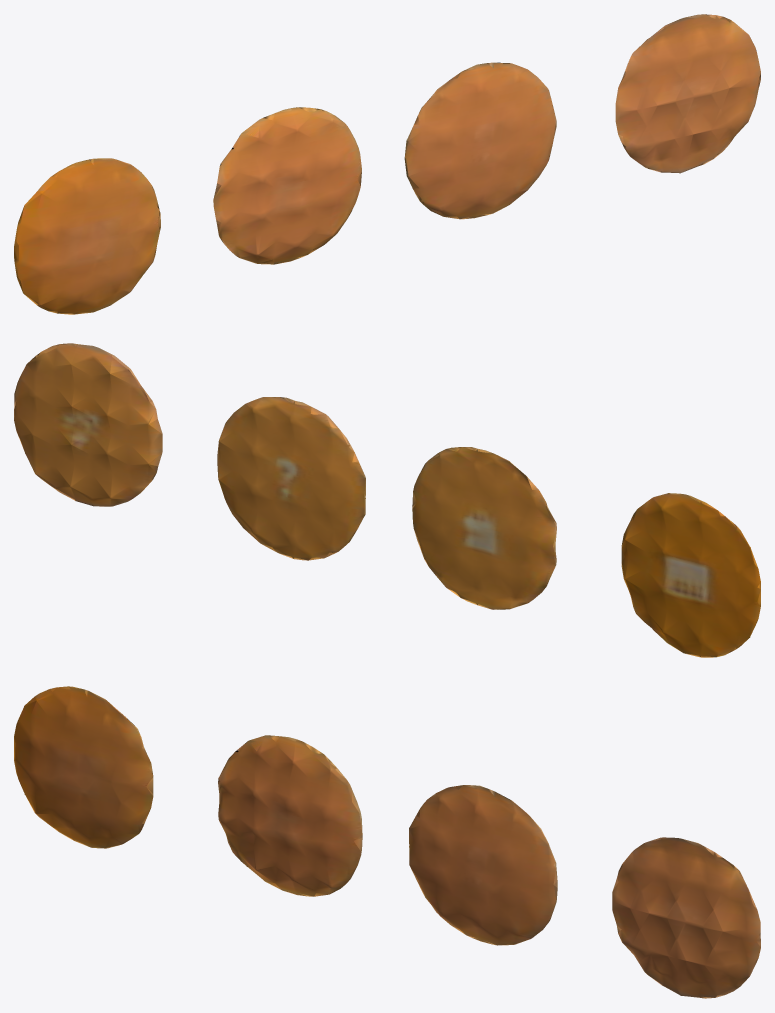
3 renders of one model, top to bottom at view 1: azimuth 30°, elevation 25°; view 2: azimuth 150°, elevation 25°; view 3: azimuth 330°, elevation 25°, orthographic.
Parts seen in each view (by area): view 1: world; view 2: world; view 3: world.
Part boxes in pixels (x1,y1,x2,y2): world: (14, 14, 760, 314); world: (14, 343, 760, 657); world: (14, 686, 760, 998).
Bounding box in the file's own units: 0.8833 × 0.178 × 0.0264.
Materials: 1 (1 with a texture image).
